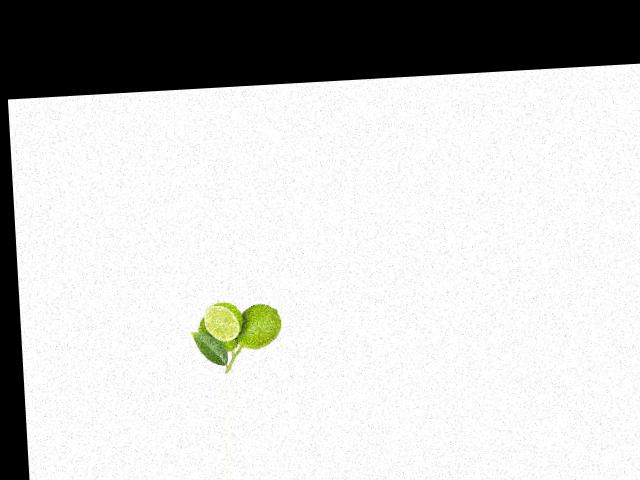lemon: (195, 313, 237, 358)
